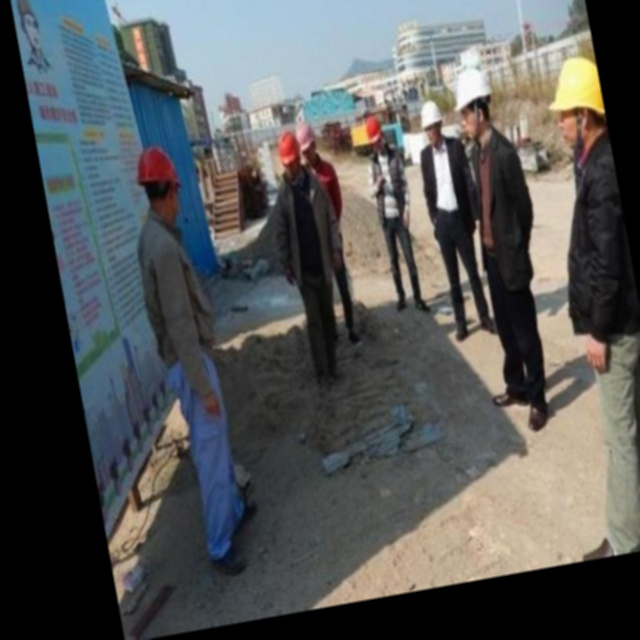Con_Casco: (542, 54, 612, 163)
Sin_Chaleco: (465, 126, 540, 255), (413, 135, 483, 243)
